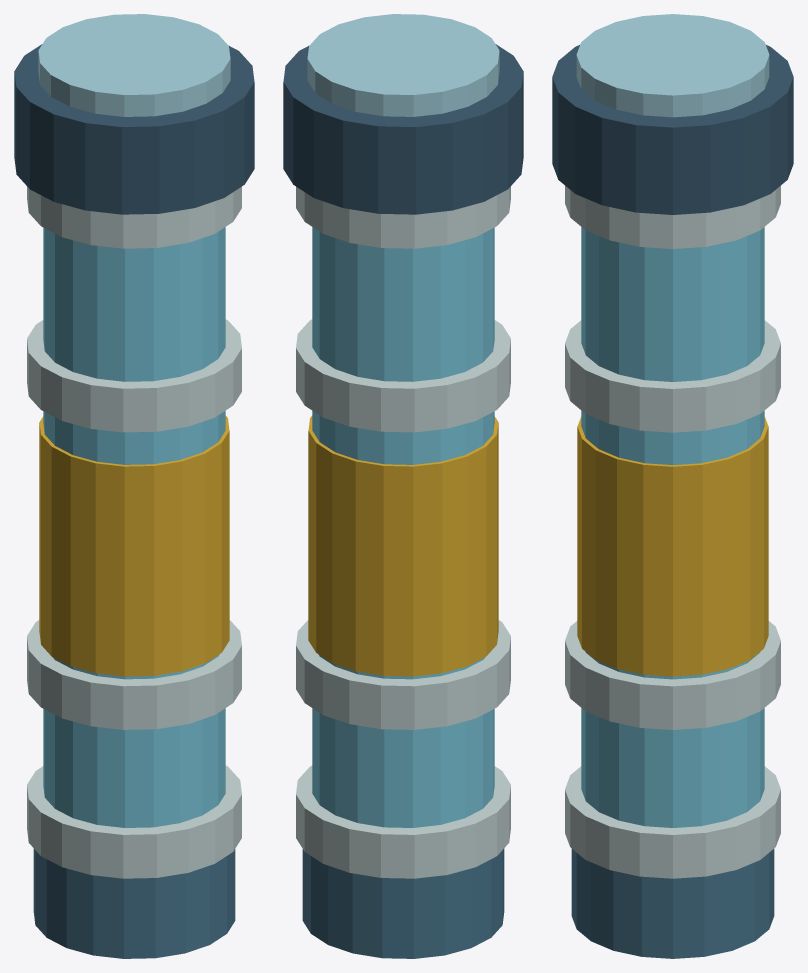
File: SM_ColdVial.fbx
3 renders of one model, left to right at view 1: azimuth 30°, elevation 25°; view 2: azimuth 150°, elevation 25°; view 3: azimuth 270°, elevation 25°, orthographic.
Parts seen in each view (by area): view 1: SM_ColdVial; view 2: SM_ColdVial; view 3: SM_ColdVial.
Part boxes in pixels (box(x1,y1,x2,y2)): SM_ColdVial: box(14, 14, 254, 958); SM_ColdVial: box(283, 14, 523, 958); SM_ColdVial: box(552, 14, 793, 958).
Size of the model in its own units: 25 by 25 by 98.5.
